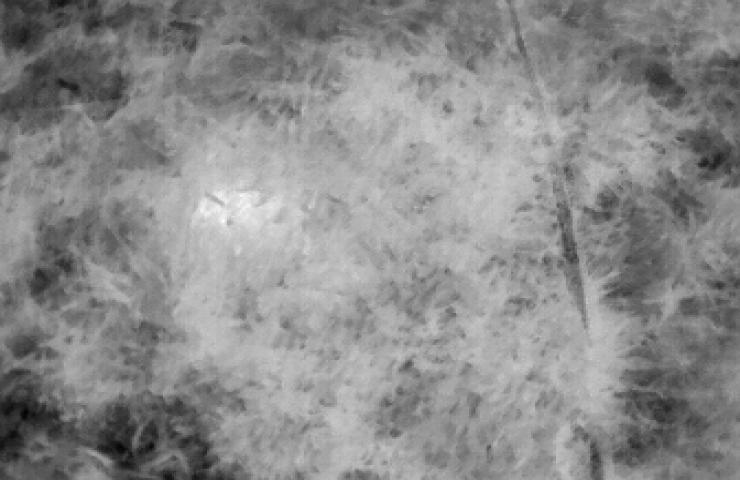landmines: (193, 181, 306, 261)
